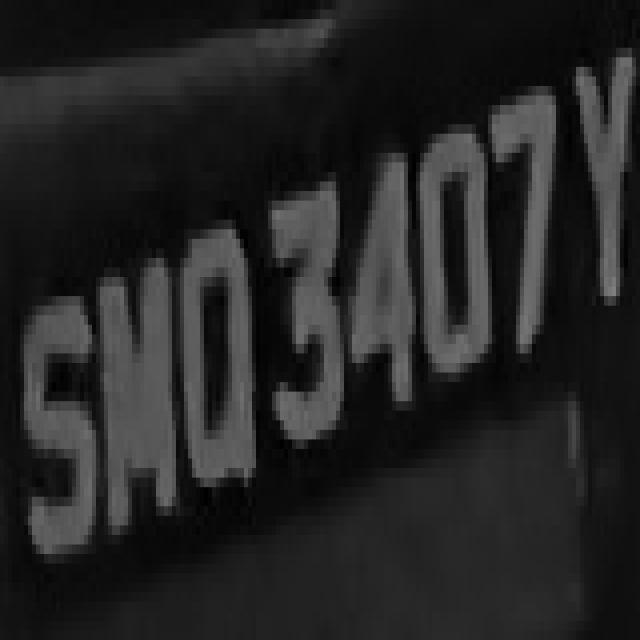0: (416, 96, 492, 401)
3: (264, 172, 344, 478)
4: (340, 134, 408, 439)
7: (480, 77, 556, 420)
M: (100, 220, 176, 564)
Q: (160, 200, 268, 526)
S: (0, 220, 96, 573)
Y: (560, 19, 632, 325)
